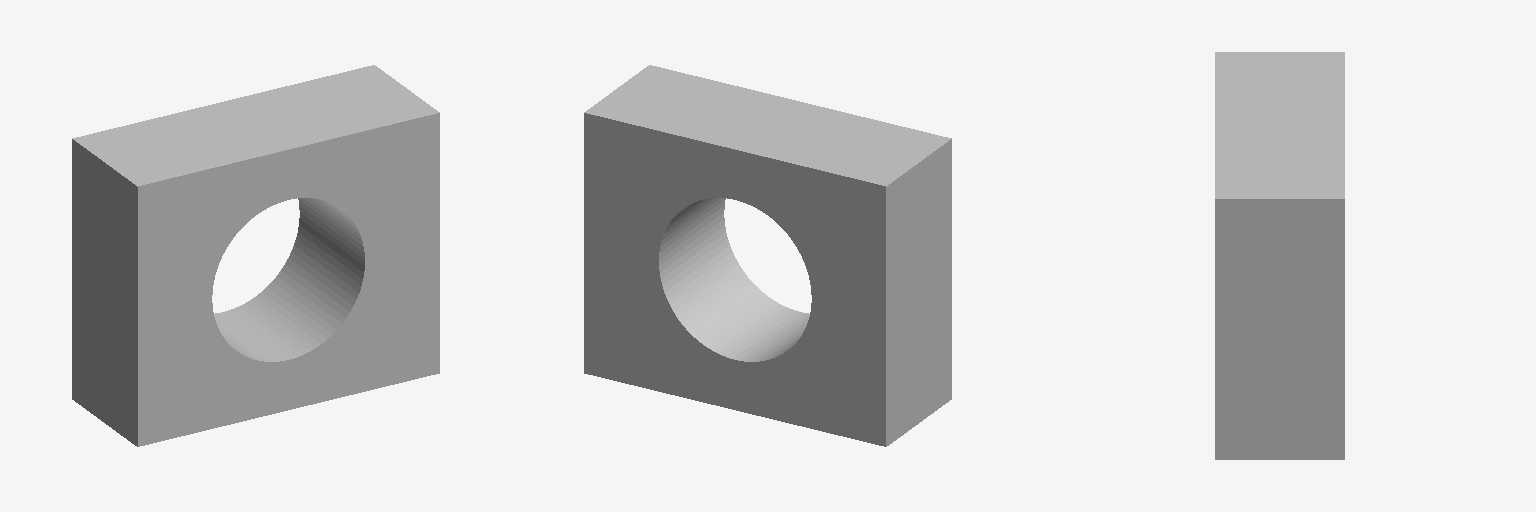
File: 2inNewShamrockBox.obj
3 renders of one model, left to right at view 1: azimuth 30°, elevation 25°; view 2: azimuth 150°, elevation 25°; view 3: azimuth 270°, elevation 25°, orthographic.
Parts seen in each view (by area): view 1: mesh0; view 2: mesh0; view 3: mesh0.
Part boxes in pixels (x1,y1,x2,y2): mesh0: (72, 65, 439, 446); mesh0: (584, 65, 951, 446); mesh0: (1215, 52, 1344, 459).
Size of the model in its own units: 0.1016 by 0.0837 by 0.0381.